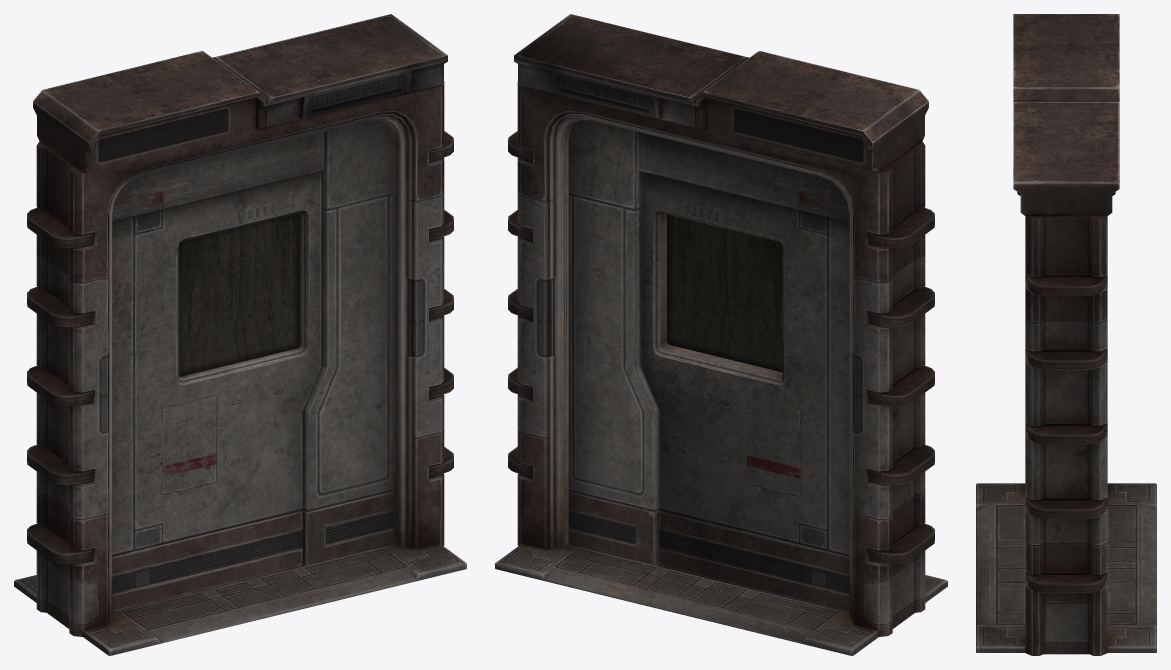
Rendered from slidedoor_medium_interlock_window.dae.
3 renders of one model, left to right at view 1: azimuth 30°, elevation 25°; view 2: azimuth 150°, elevation 25°; view 3: azimuth 270°, elevation 25°, orthographic. The views are drawn at different scales.
Visible parts, largest first — view 1: frame__2_, door_part_left__2_, door_part_right__2_, glass; view 2: frame__2_, door_part_left__2_, door_part_right__2_, glass; view 3: frame__2_.
Part boxes in pixels (left/top/right/bottom): frame__2_: left=14, top=14, right=466, bottom=655; door_part_left__2_: left=112, top=132, right=324, bottom=612; door_part_right__2_: left=303, top=120, right=393, bottom=566; glass: left=179, top=213, right=299, bottom=376; frame__2_: left=495, top=14, right=947, bottom=655; door_part_left__2_: left=637, top=132, right=849, bottom=612; door_part_right__2_: left=568, top=120, right=658, bottom=566; glass: left=667, top=214, right=782, bottom=372; frame__2_: left=976, top=14, right=1156, bottom=655.
Bounding box in the file's own units: 2.66 × 3.22 × 1.1.
